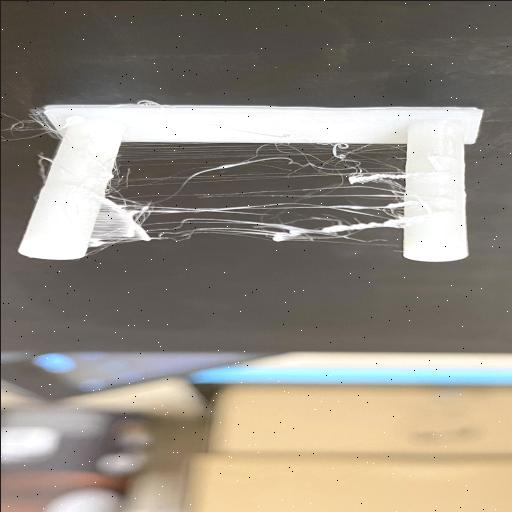stringing: (99, 144, 403, 244)
